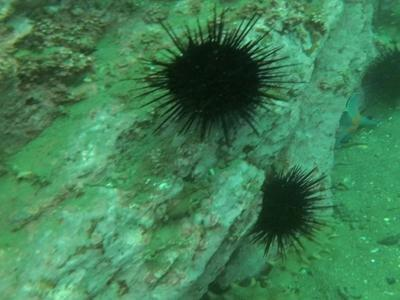holothurian: (198, 221, 361, 298)
urchin: (129, 3, 293, 147), (240, 160, 330, 265), (354, 41, 395, 123)
